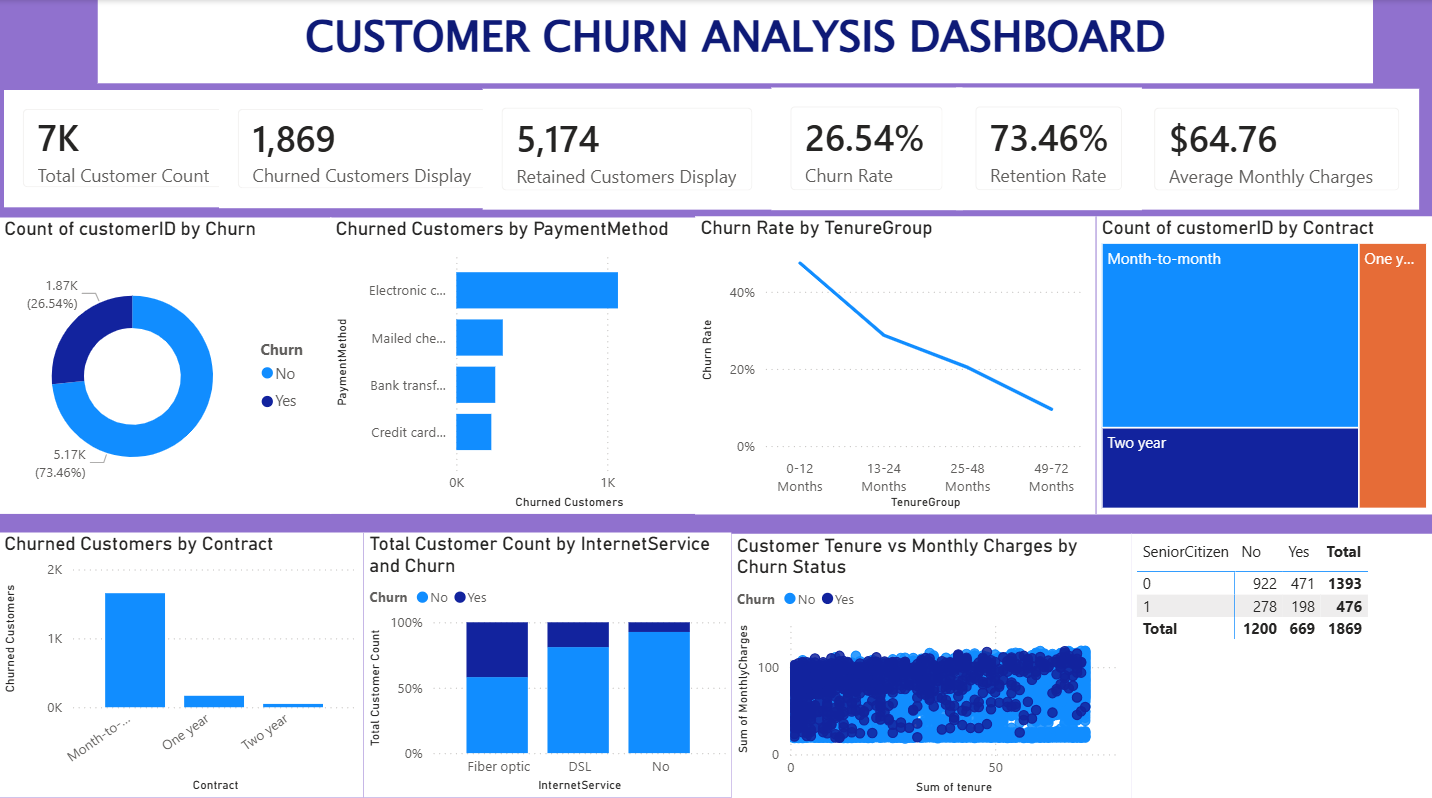

The page's visual inventory and layout, read from the dashboard file:
{"tool":"powerbi","page":{"name":"Page 1","canvas":[1280,720],"ordinal":0},"visuals":[{"type":"cardVisual","fields":{"Data":["cleaned_customer_churn.Total Customers Display"]},"box":[4.9,79.7,213.5,104.6],"z":0,"group":"g1"},{"type":"donutChart","fields":{"Category":["cleaned_customer_churn.Churn"],"Y":["CountNonNull(cleaned_customer_churn.customerID)"]},"box":[-0.5,194.5,296.7,265],"z":0},{"type":"cardVisual","fields":{"Data":["cleaned_customer_churn.Churned Customers Display"]},"box":[197.2,79.7,256.5,105.8],"z":1000,"group":"g1"},{"type":"clusteredColumnChart","fields":{"Category":["cleaned_customer_churn.Contract"],"Y":["cleaned_customer_churn.Churned Customers"]},"box":[0,476.1,325.8,237.1],"z":1000},{"type":"group","id":"g1","title":"Group 1","box":[4.9,77.8,1264.4,109.4],"z":2000},{"type":"cardVisual","fields":{"Data":["cleaned_customer_churn.Retained Customers Display"]},"box":[432.6,78.9,258.1,108.3],"z":2000,"group":"g1"},{"type":"cardVisual","fields":{"Data":["cleaned_customer_churn.Churn Rate"]},"box":[691,78.1,170.6,109.4],"z":3000,"group":"g1"},{"type":"clusteredBarChart","fields":{"Y":["cleaned_customer_churn.Churned Customers"],"Category":["cleaned_customer_churn.PaymentMethod"]},"box":[295.4,194.5,327.1,265],"z":3000},{"type":"cardVisual","fields":{"Data":["cleaned_customer_churn.Retention Rate"]},"box":[855.2,77.8,165.7,109.4],"z":4000,"group":"g1"},{"type":"hundredPercentStackedColumnChart","fields":{"Series":["cleaned_customer_churn.Churn"],"Category":["cleaned_customer_churn.InternetService"],"Y":["cleaned_customer_churn.Total Customer Count"]},"box":[325.8,476.1,328.3,237.1],"z":4000},{"type":"cardVisual","fields":{"Data":["cleaned_customer_churn.Average Monthly Charges"]},"box":[1015.1,78.7,254,108.2],"z":5000,"group":"g1"},{"type":"lineChart","fields":{"Category":["cleaned_customer_churn.TenureGroup"],"Y":["cleaned_customer_churn.Churn Rate"]},"box":[622.5,193.3,357.4,266.3],"z":5000},{"type":"scatterChart","title":"Customer Tenure vs Monthly Charges by Churn Status","fields":{"X":["Sum(cleaned_customer_churn.tenure)"],"Y":["Sum(cleaned_customer_churn.MonthlyCharges)"],"Category":["cleaned_customer_churn.customerID"],"Series":["cleaned_customer_churn.Churn"]},"box":[654.1,476.6,357.4,237.1],"z":6000},{"type":"treemap","fields":{"Group":["cleaned_customer_churn.Contract"],"Values":["Count(cleaned_customer_churn.customerID)"]},"box":[979.9,193.3,300.3,266.3],"z":7000},{"type":"pivotTable","fields":{"Rows":["cleaned_customer_churn.SeniorCitizen"],"Columns":["cleaned_customer_churn.Partner"],"Values":["cleaned_customer_churn.Churned Customers"]},"box":[1011.6,476.6,268.7,237.1],"z":8000},{"type":"textbox","box":[88.8,0,1139.2,74.2],"z":9000}]}

Visuals, with their boxes in screenshot pixels (x1, y1, x2, y2), scaled from the page's 1280x720 canvas onto the 1432x798 screenshot:
cardVisual - cleaned_customer_churn.Total Customers Display: 5 88 244 204
donutChart - cleaned_customer_churn.Churn x CountNonNull(cleaned_customer_churn.customerID): 0 216 331 509
cardVisual - cleaned_customer_churn.Churned Customers Display: 221 88 508 206
clusteredColumnChart - cleaned_customer_churn.Contract x cleaned_customer_churn.Churned Customers: 0 528 364 790
"Group 1" group: 5 86 1420 207
cardVisual - cleaned_customer_churn.Retained Customers Display: 484 87 773 207
cardVisual - cleaned_customer_churn.Churn Rate: 773 87 964 208
clusteredBarChart - cleaned_customer_churn.Churned Customers x cleaned_customer_churn.PaymentMethod: 330 216 696 509
cardVisual - cleaned_customer_churn.Retention Rate: 957 86 1142 207
hundredPercentStackedColumnChart - cleaned_customer_churn.Churn x cleaned_customer_churn.InternetService: 364 528 732 790
cardVisual - cleaned_customer_churn.Average Monthly Charges: 1136 87 1420 207
lineChart - cleaned_customer_churn.TenureGroup x cleaned_customer_churn.Churn Rate: 696 214 1096 509
"Customer Tenure vs Monthly Charges by Churn Status" scatterChart: 732 528 1132 791
treemap - cleaned_customer_churn.Contract x Count(cleaned_customer_churn.customerID): 1096 214 1431 509
pivotTable - cleaned_customer_churn.SeniorCitizen x cleaned_customer_churn.Partner: 1132 528 1431 791
textbox: 99 0 1374 82
